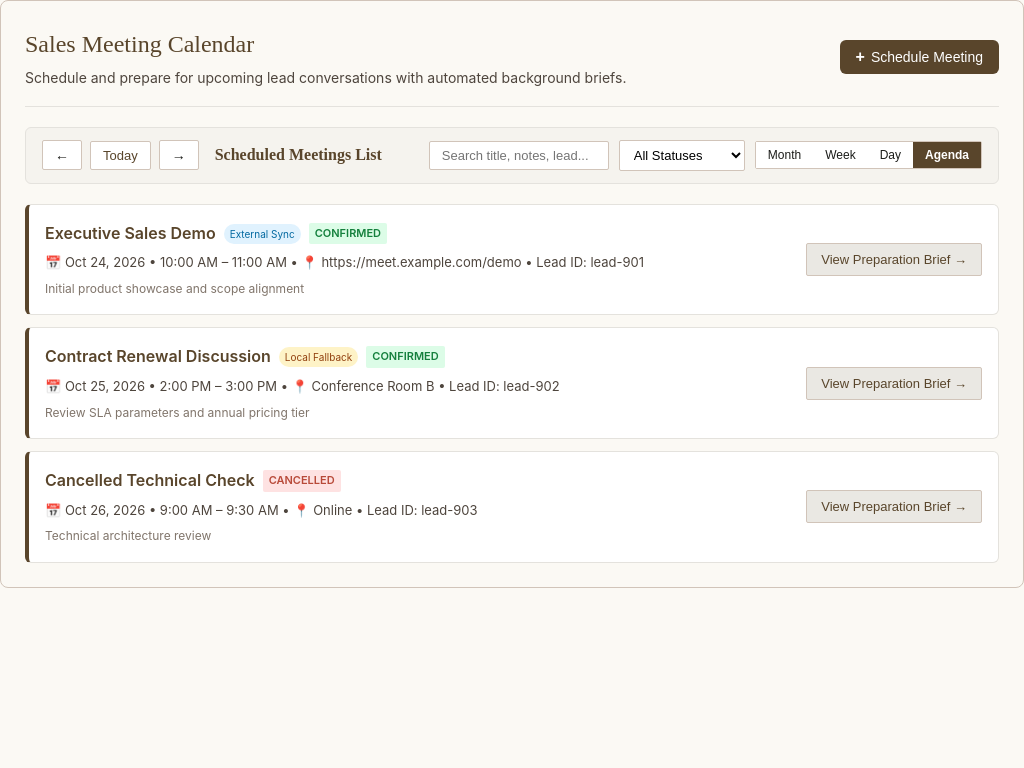
Test: CalendarView Component (Feature 005 - T026) › Preparation Brief Drawer (FR-7) › opens Brief Drawer when clicking a meeting card and fetches synthesized brief
Click the element with test id "meeting-card-evt-001": x=512, y=260 [25,204,999,315]
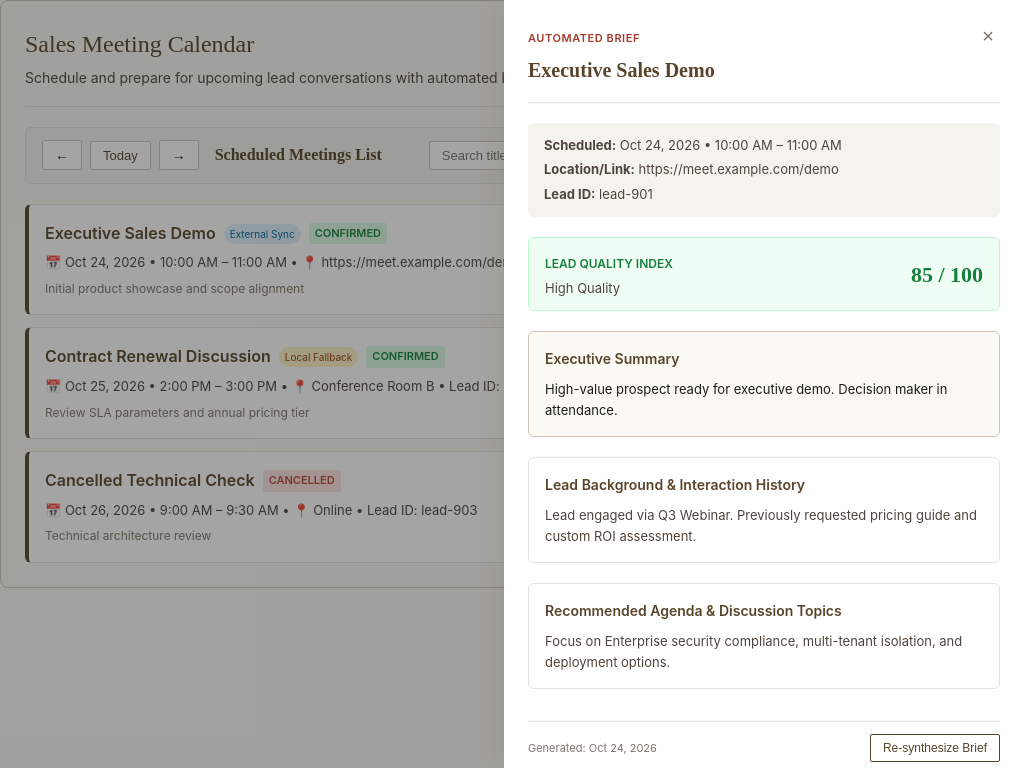
Expected: the dialog with test id "brief-drawer" is shown, [504,0,1023,767]
Expected: the element with test id "quality-score-badge" is shown, [528,237,1000,311]
Expected: the text with test id "brief-summary-text" shows "High-value prospect ready for executive demo", [545,381,948,418]
